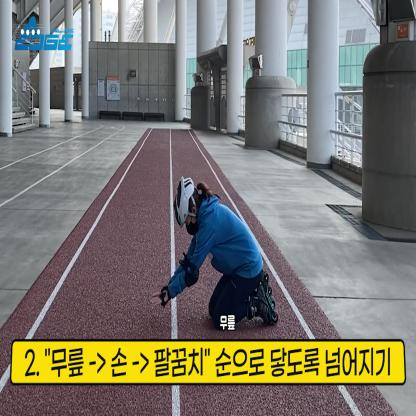Fall_Down: (149, 179, 274, 326)
